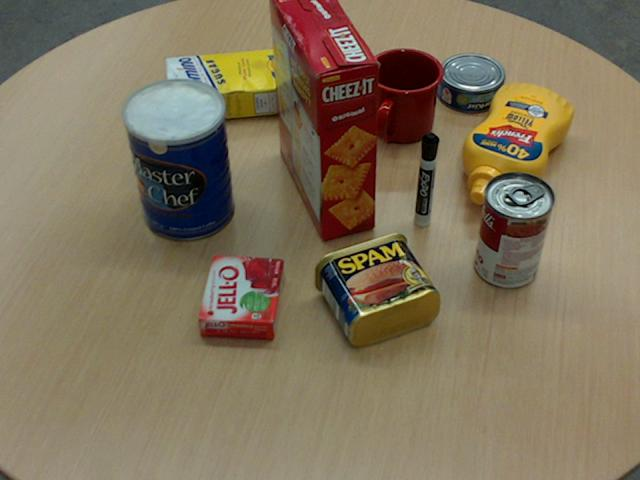cracker_box: (269, 0, 377, 239)
gelatin_box: (198, 253, 284, 338)
large_marker: (415, 133, 438, 226)
master_chef_can: (122, 78, 233, 241)
mug: (365, 47, 443, 142)
mustard_bottle: (461, 83, 572, 204)
potted_meat_can: (313, 231, 439, 345)
sugar_box: (164, 46, 311, 121)
tomato_soup_can: (474, 171, 554, 287)
tuna_fish_can: (435, 52, 504, 111)
